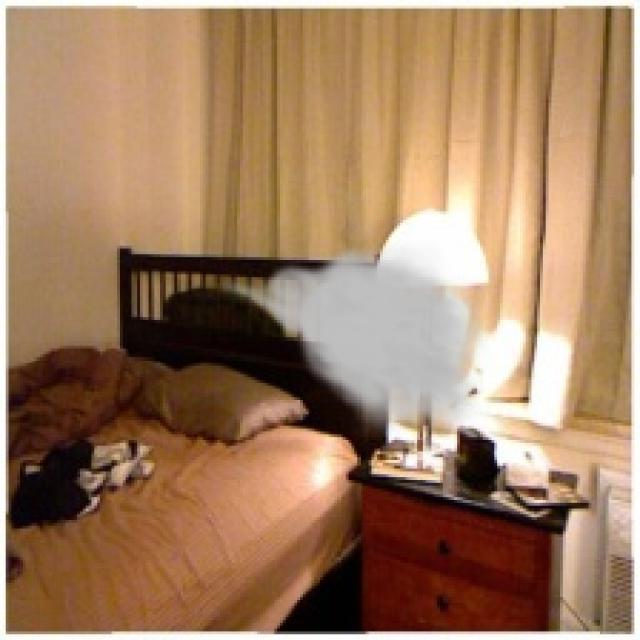Smoke: (212, 240, 492, 440)
